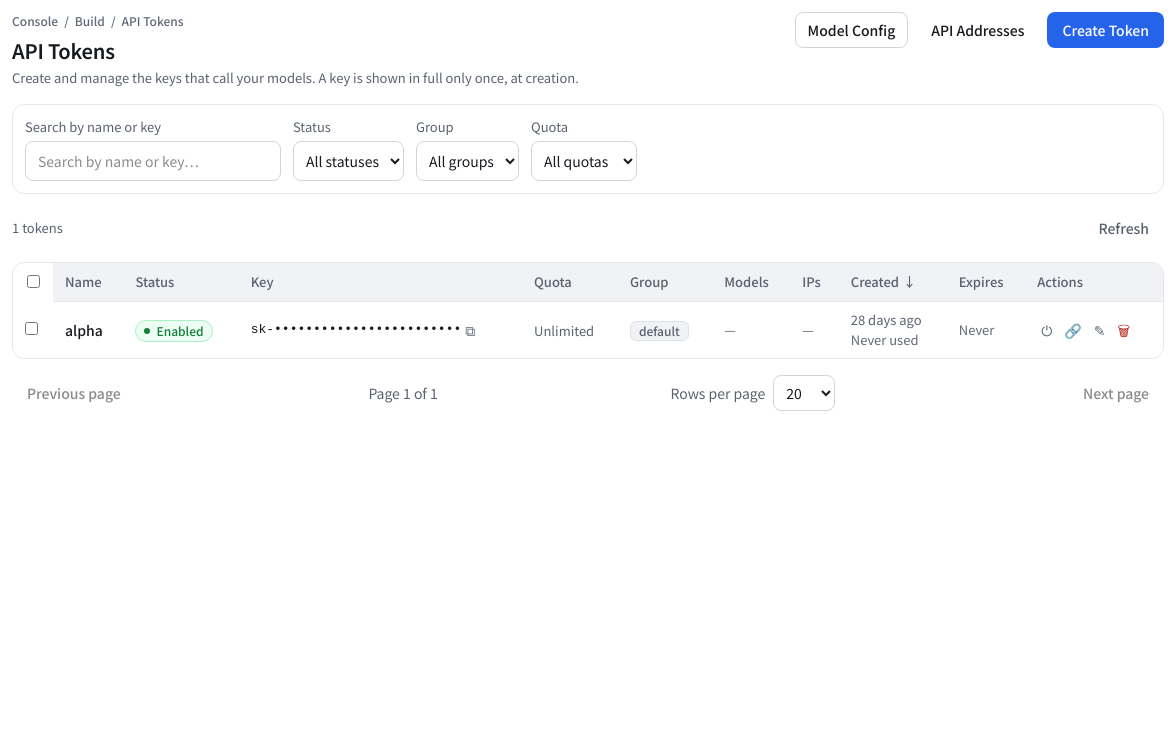
TokenListPage › reports a failure when no clipboard path is available
Check: the text "alpha" is shown, box [53,301,123,358]
Click the button named "Copy connection info for alpha".
click(1073, 330)  # box [1060,318,1086,340]
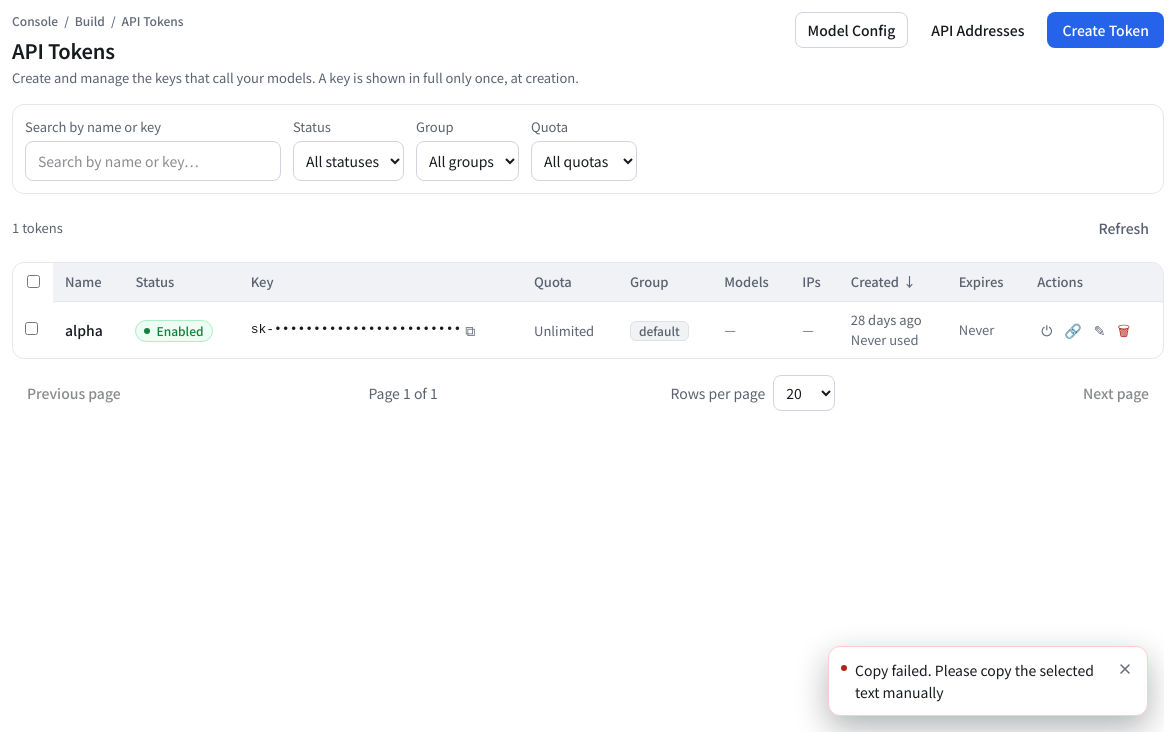
Check: the text "Copy failed. Please copy the selected text manually" is shown, box [855,659,1107,703]
